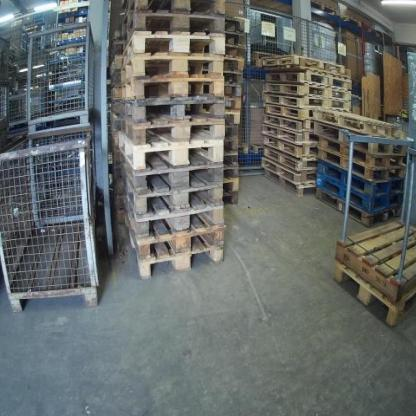pallet: (332, 259, 416, 326), (139, 247, 222, 282), (318, 123, 407, 155), (321, 162, 404, 195), (318, 190, 401, 223), (121, 57, 223, 83), (120, 144, 225, 169), (121, 16, 225, 41), (117, 96, 225, 120), (320, 138, 406, 168), (322, 151, 405, 182), (130, 211, 224, 238), (122, 38, 223, 63), (126, 185, 223, 211), (319, 178, 404, 206), (321, 110, 400, 140), (120, 122, 226, 144), (265, 69, 354, 91), (119, 78, 224, 95), (134, 236, 224, 255), (265, 83, 352, 101), (128, 169, 224, 183), (263, 159, 315, 184), (261, 55, 347, 70), (266, 96, 352, 111), (264, 170, 314, 195), (265, 148, 317, 172), (135, 1, 222, 15), (264, 136, 318, 158), (265, 114, 314, 133), (264, 128, 314, 143), (266, 105, 317, 119), (225, 32, 248, 46), (225, 57, 245, 73), (225, 19, 246, 32), (225, 46, 248, 57), (224, 73, 245, 85), (224, 85, 242, 98), (226, 112, 242, 126), (227, 98, 242, 112), (223, 179, 237, 193), (225, 142, 239, 156), (224, 156, 239, 169), (225, 127, 238, 142), (223, 193, 241, 203), (224, 169, 240, 180)
stillage: (3, 127, 106, 319), (24, 22, 102, 129), (25, 126, 102, 225)
